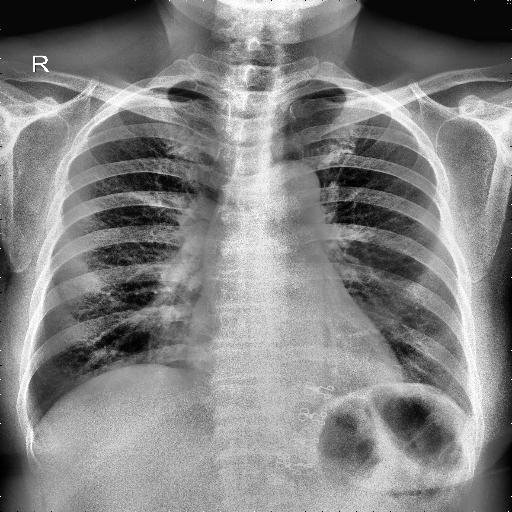0- Aortic enlargement: (249, 160, 322, 220), (264, 158, 322, 226), (262, 160, 322, 214)
